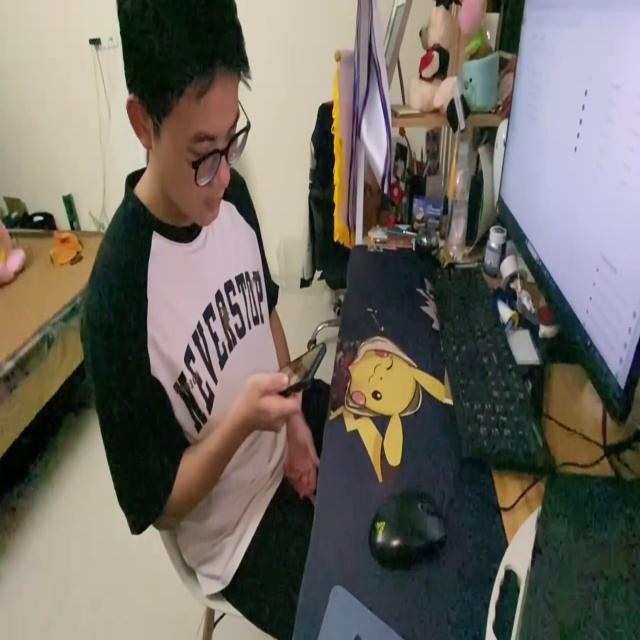laptop: (494, 1, 640, 426)
phone: (273, 338, 327, 396)
student: (78, 1, 330, 616)
